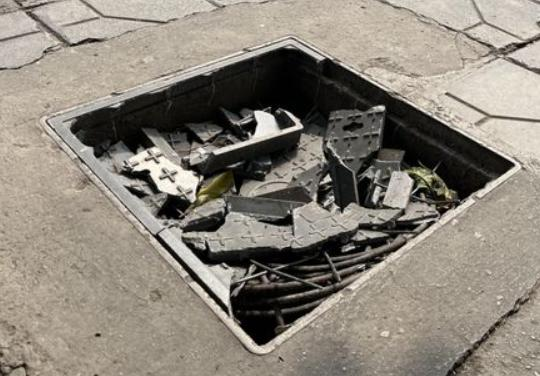wellcover: (46, 38, 519, 348)
